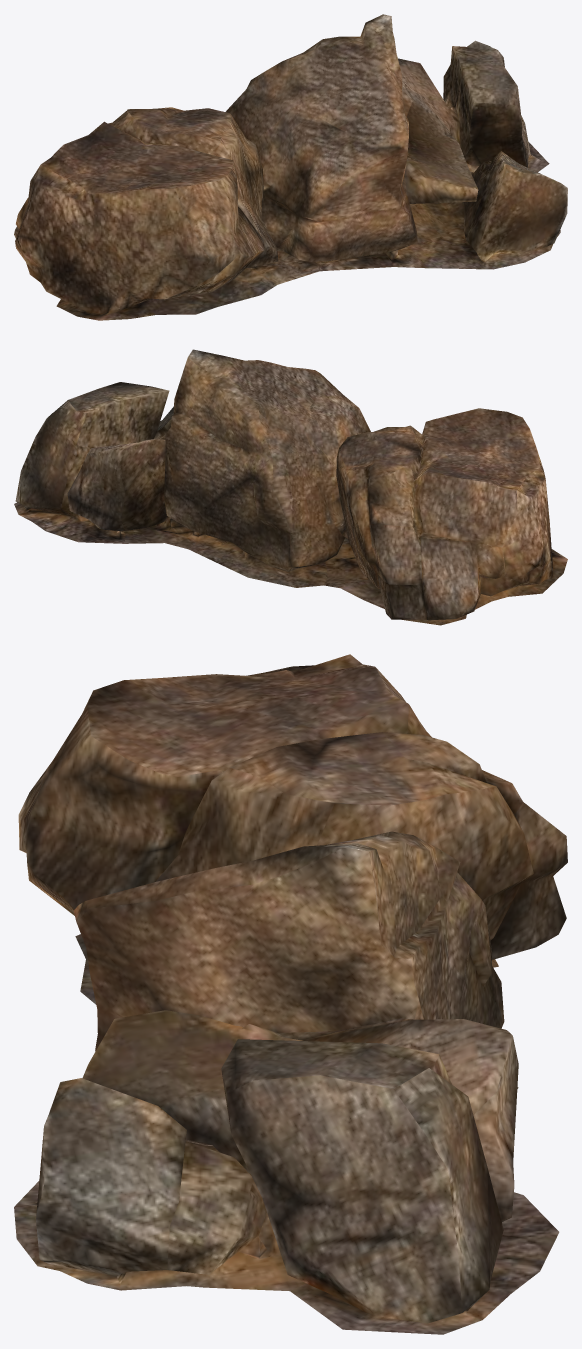
Rendered from boulder.glb.
The picture shows the model from 3 angles, top to bottom: view 1: azimuth 30°, elevation 25°; view 2: azimuth 150°, elevation 25°; view 3: azimuth 270°, elevation 25°; orthographic projection. The views are drawn at different scales.
Parts seen in each view (by area): view 1: boulder; view 2: boulder; view 3: boulder.
Boxes of the visible parts, box(x1,y1,x2,y2) form: boulder: box(14, 14, 567, 320); boulder: box(14, 349, 567, 625); boulder: box(14, 654, 567, 1334).
Size of the model in its own units: 2.51 by 0.8697 by 1.23.
Materials: 1 (1 with a texture image).
